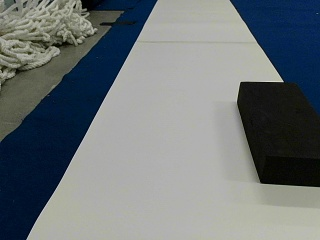block: (238, 83, 319, 187)
